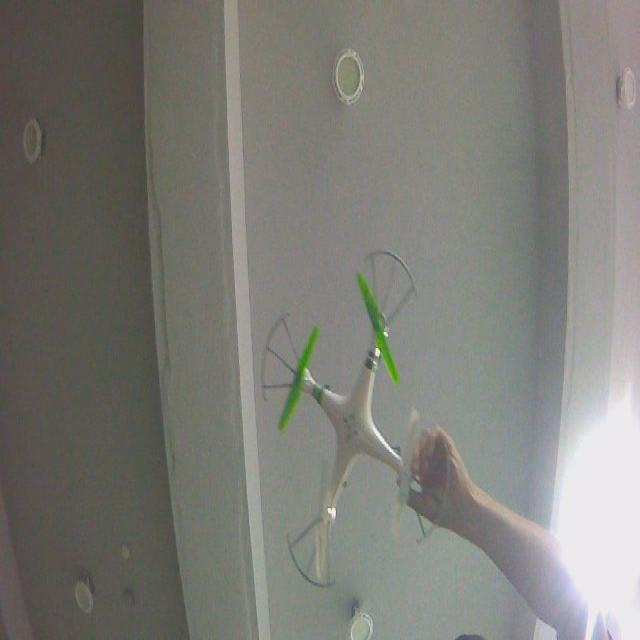drone: (259, 248, 450, 590)
